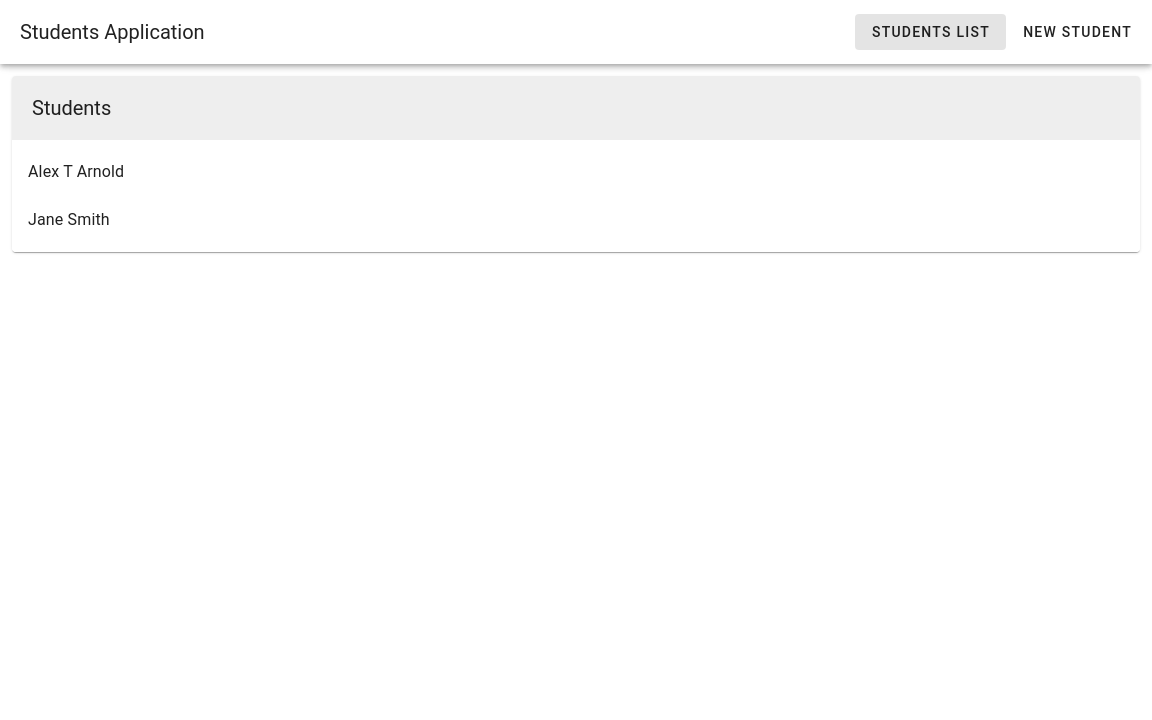
Test: student service › adds a new student
What coordinates should you click on to do the following:
click the link with test id "new-student-link"
I would click on:
 (1078, 32)
Its box is [1023,24,1132,40].
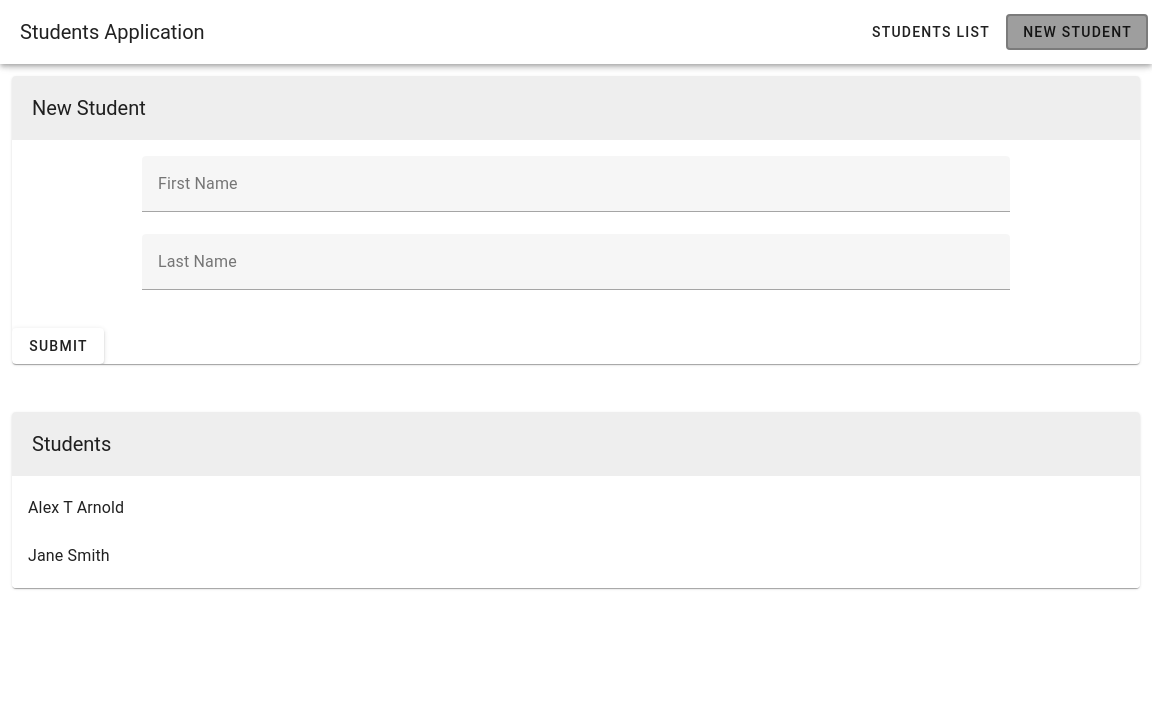
Now the element with test id "new-student-header" reads "New Student", box [32,96,146,120]
